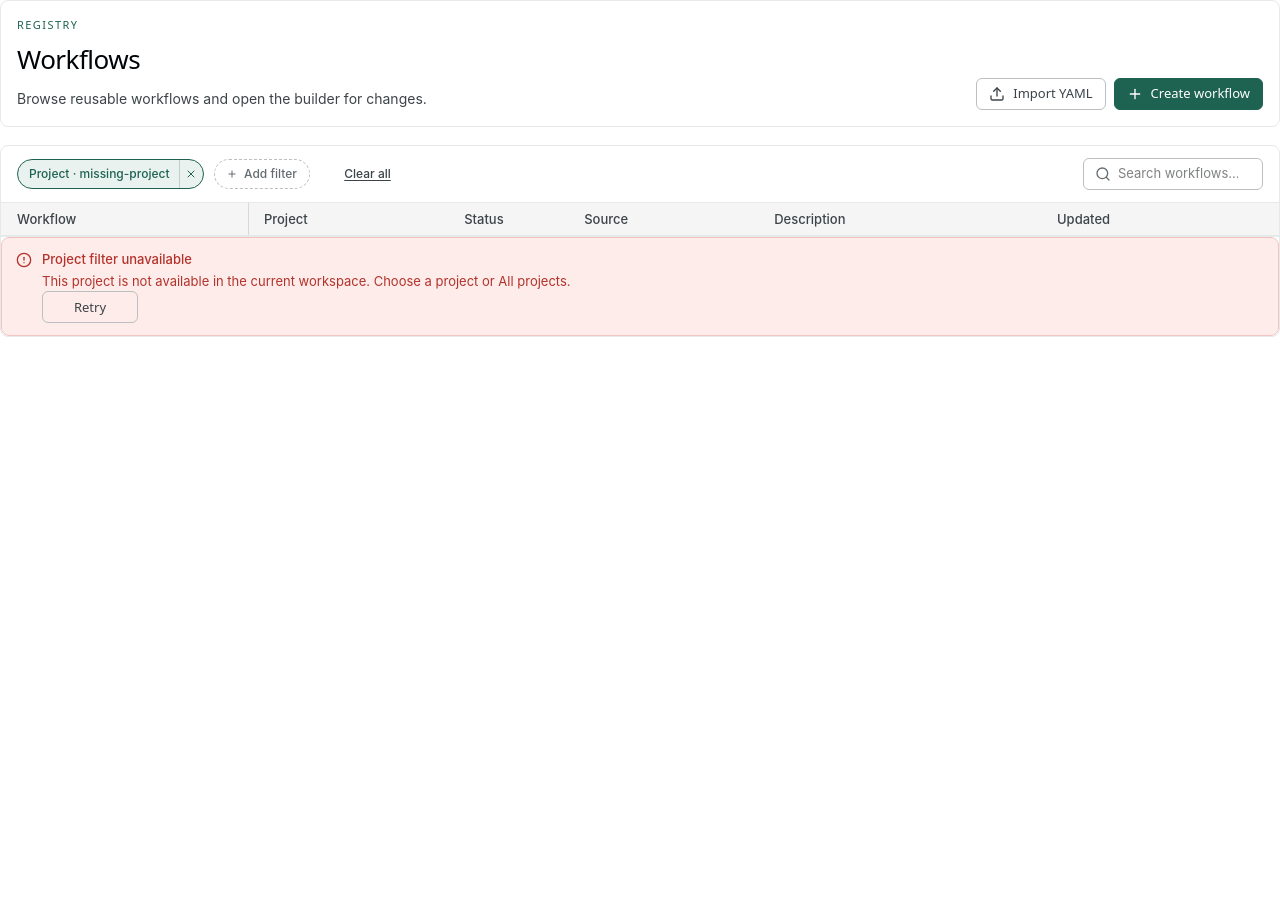
Scenario: never substitutes a real project for an unknown URL project
The image size is (1280, 900).
Expected: the message is shown, [1,237,1279,336]
What coordinates should you click on to do the following:
click the button named "Remove Project filter"
I would click on:
 (190, 174)
Its box is [178,160,202,188].
(page scrolled)
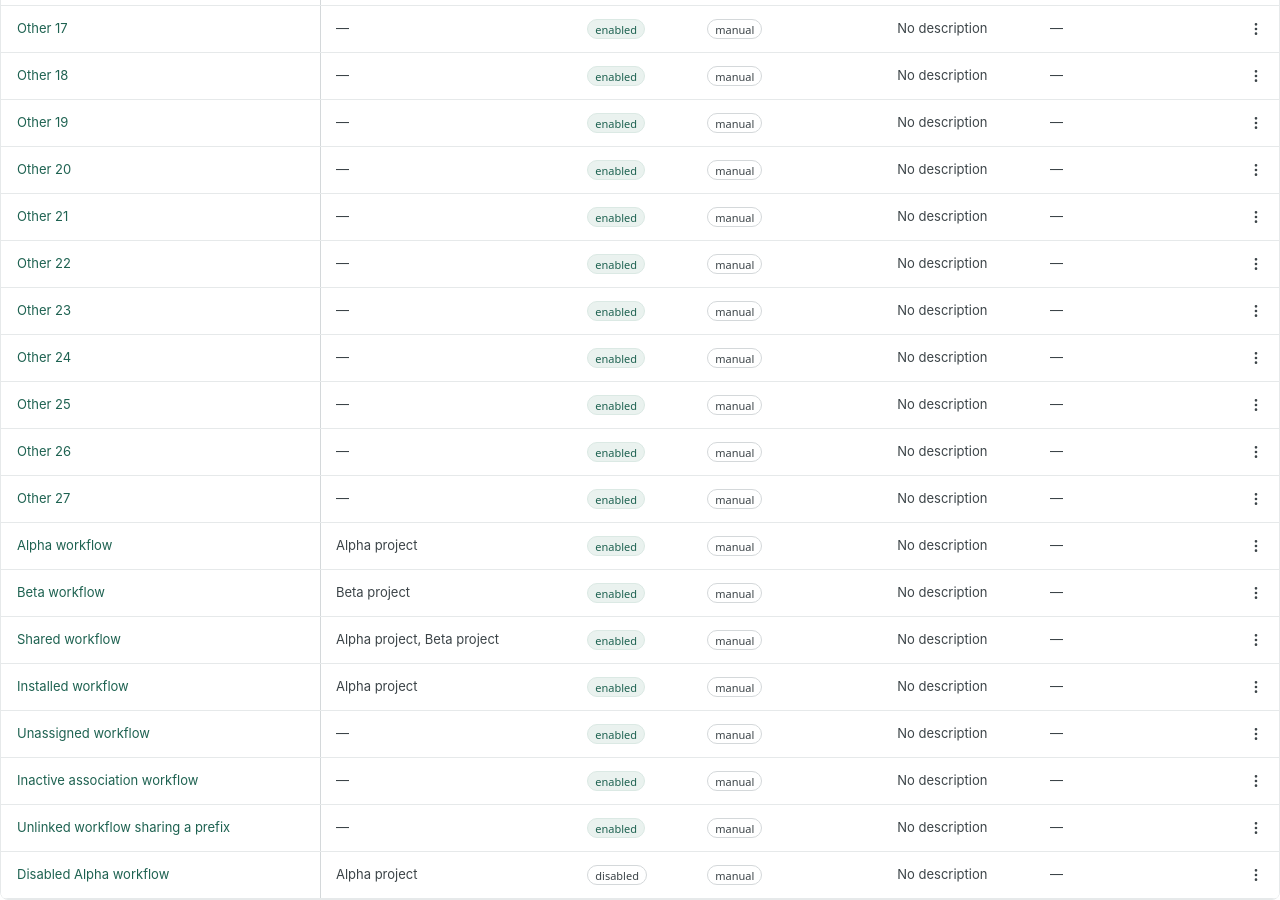
Expected: the link "Unassigned workflow" is shown, [17,725,150,741]
